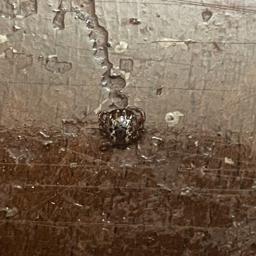Dermacentor variabilis: (93, 106, 151, 153)
